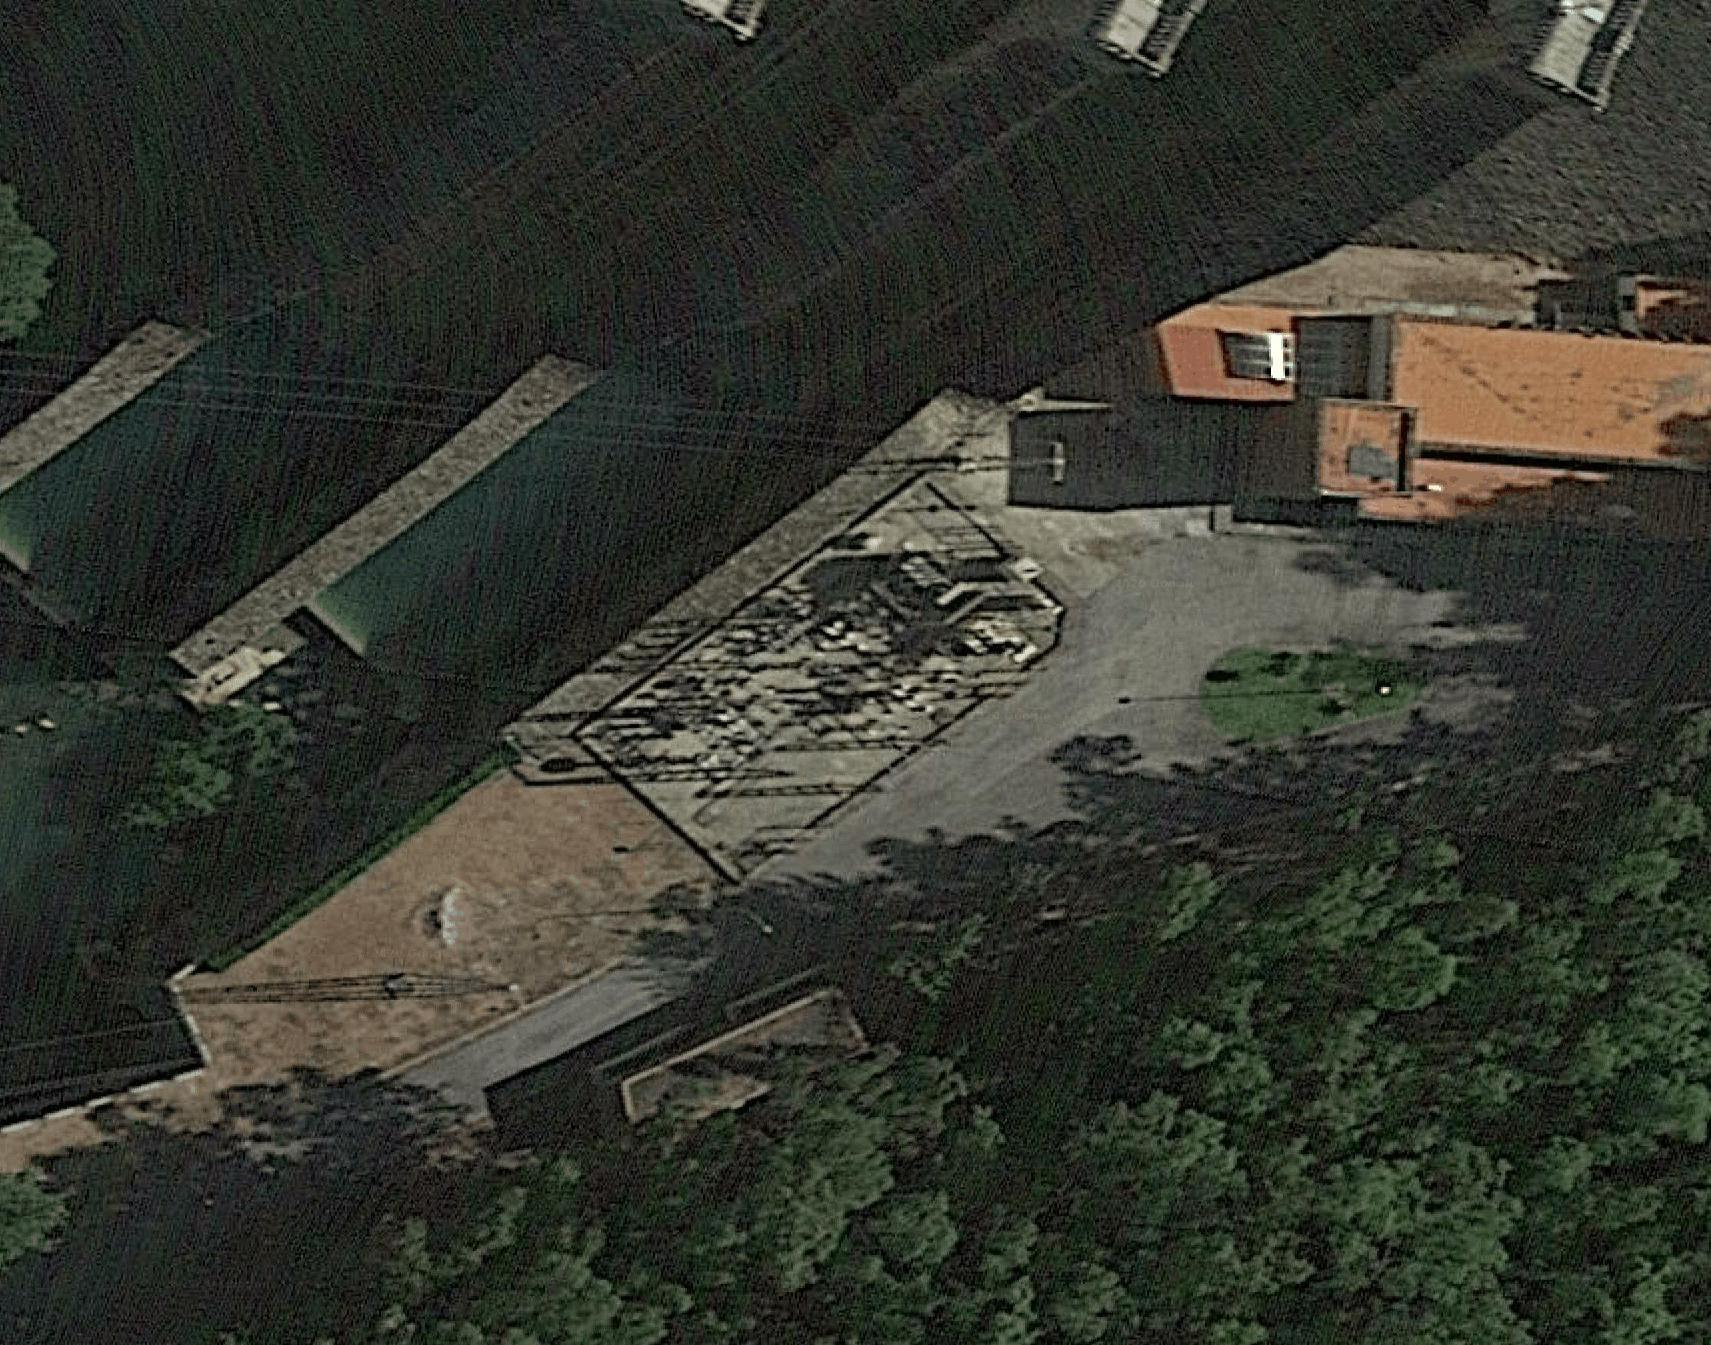substation: (583, 464, 1069, 824)
